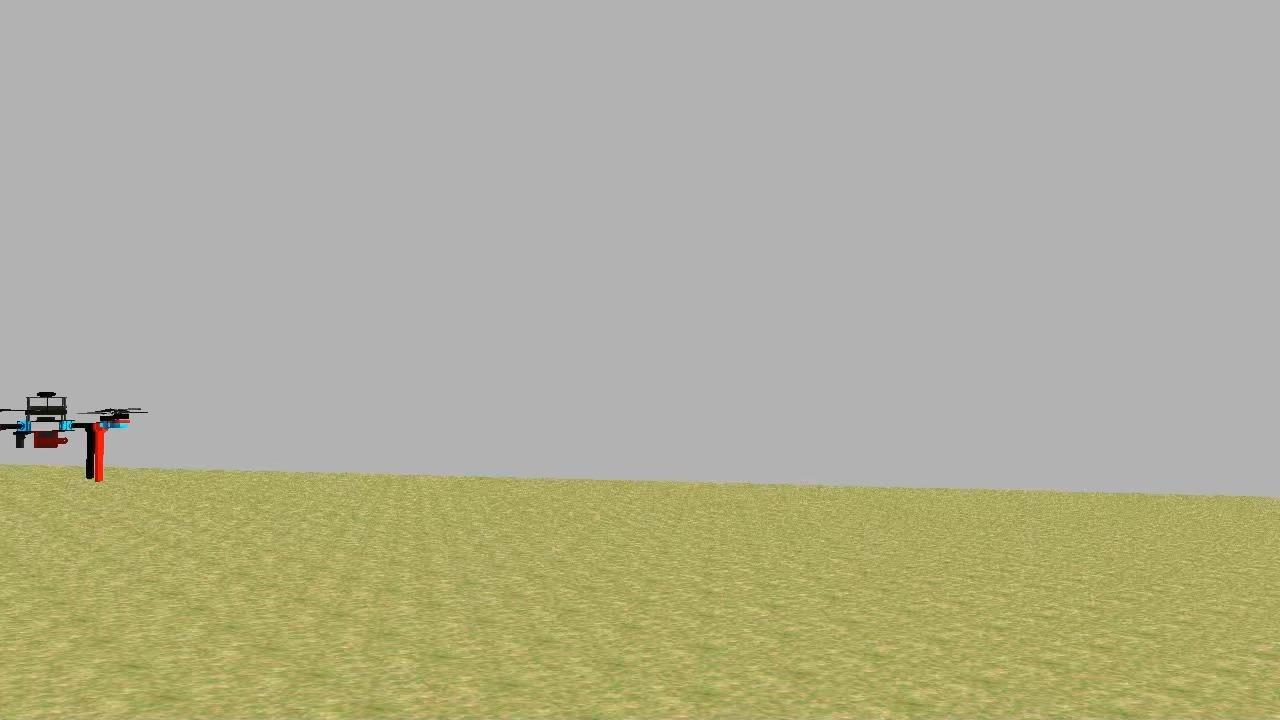UAV: (0, 378, 140, 488)
